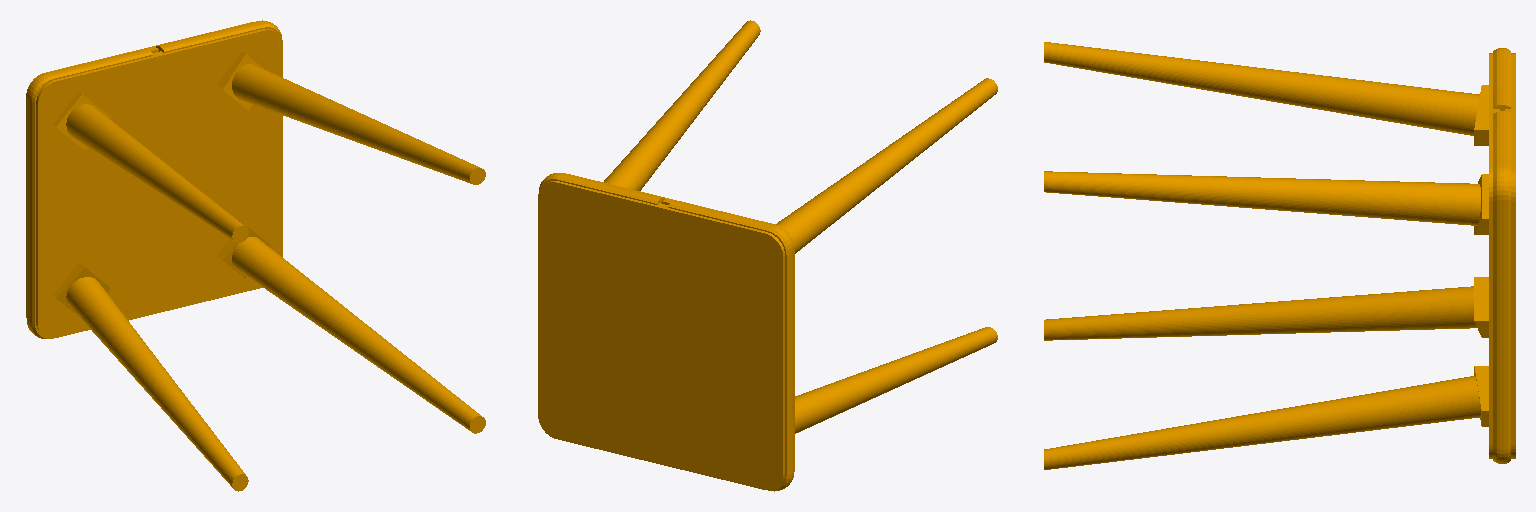
robot.urdf — none:
<robot name="none">
       <link name="none">
           <visual>
               <origin xyz="0 0 0" />
               <geometry>
                   <mesh filename="Taburetka.obj" scale="1 1 1" />
               </geometry>
           </visual>
          <collision>
            <origin rpy="1.57 0 0" xyz="0 0 0.25" />
              <geometry>
                  <box size="0.67032 0.5000000 0.783208" />
              </geometry>
          </collision>

          <inertial>
            <mass value=".0" />
            <inertia ixx="0.05" ixy="0.0" ixz="0.0" iyy="0.05" iyz="0.0" izz="0.05"/>
          </inertial>
      </link>
  </robot>

--- Render facts (derived) ---
3 views of the same robot in one strip: view 1: azimuth 30°, elevation 25°; view 2: azimuth 150°, elevation 25°; view 3: azimuth 270°, elevation 25° (orthographic).
Robot: none — 1 links, 0 joints (none); root link none; default pose: all joints at 0.
Visible links, largest first — view 1: none; view 2: none; view 3: none.
Boxes of the visible links, x1,y1,x2,y2 form: none: [26, 20, 485, 491]; none: [538, 20, 997, 491]; none: [1044, 42, 1515, 469].
Bounding box of the posed robot: 0.3101 × 0.4456 × 0.3101 m (x, y, z).
Meshes: 1 distinct files referenced, 1 mesh visuals loaded (1 OBJ).